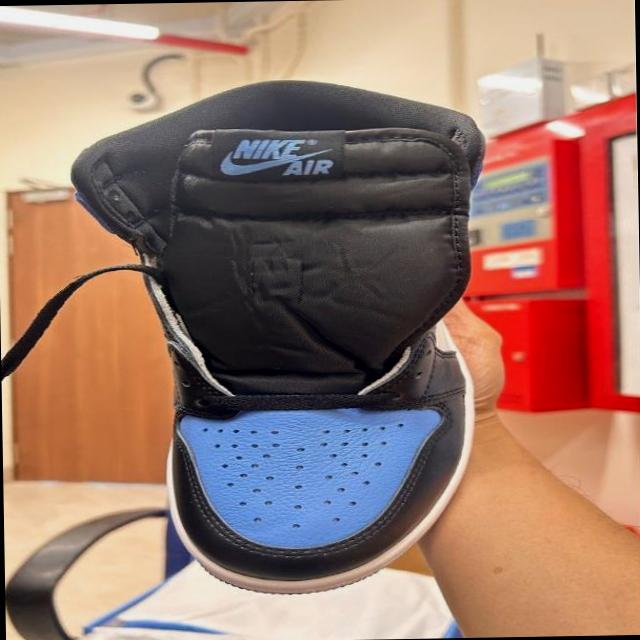nike_original_jordan: (63, 61, 492, 596)
